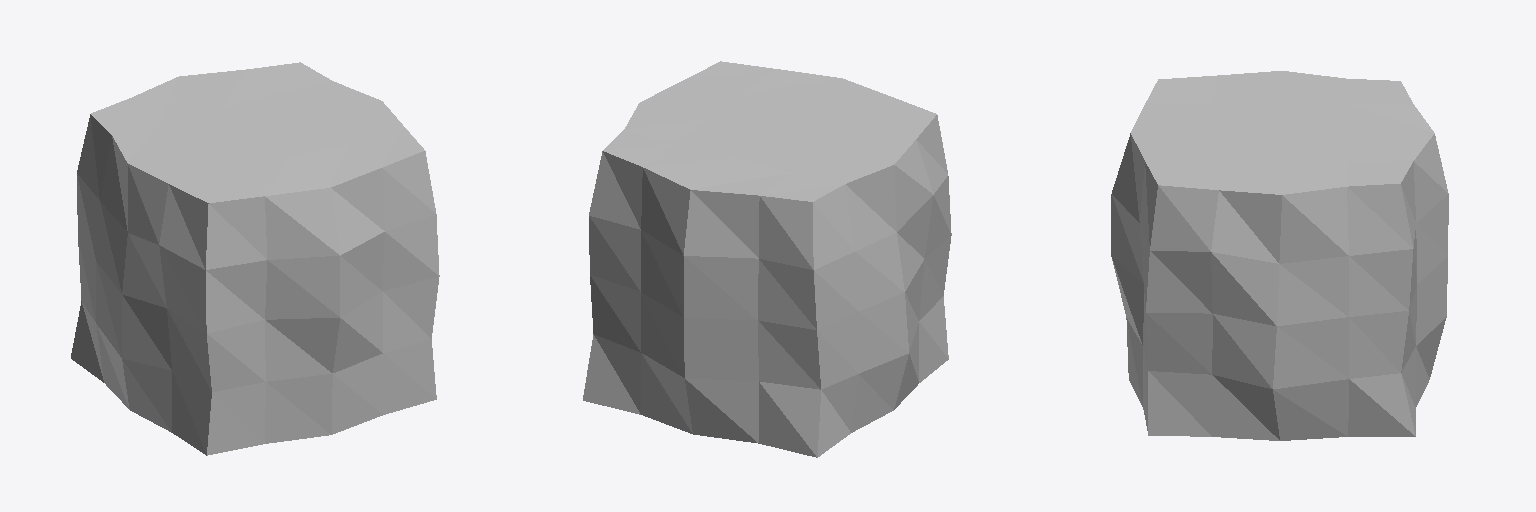
File: pushableRock.obj
3 views of the same model, side by side, from view 1: azimuth 30°, elevation 25°; view 2: azimuth 150°, elevation 25°; view 3: azimuth 270°, elevation 25° (orthographic).
Parts seen in each view (by area): view 1: Cube; view 2: Cube; view 3: Cube.
Boxes of the visible parts, box(x1,y1,x2,y2) form: Cube: box(71, 62, 439, 455); Cube: box(583, 61, 951, 457); Cube: box(1111, 71, 1448, 440).
Size of the model in its own units: 4.69 by 4.03 by 4.97.